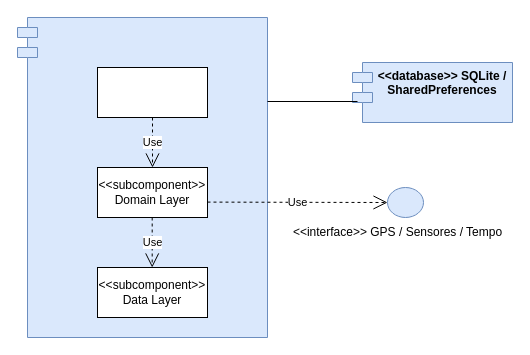
Some shapes in this 530 by 355 pixel diagram are drawn without their labels. The shapes that lost their labels are listed below. From the top down, each one's box as (x1, y1, x2, y2) in pixels, then its label:
(96, 66, 208, 118): <<subcomponent>> UI Layer
(16, 16, 268, 338): <<component>> App Mobile (Flutter/Dart)
